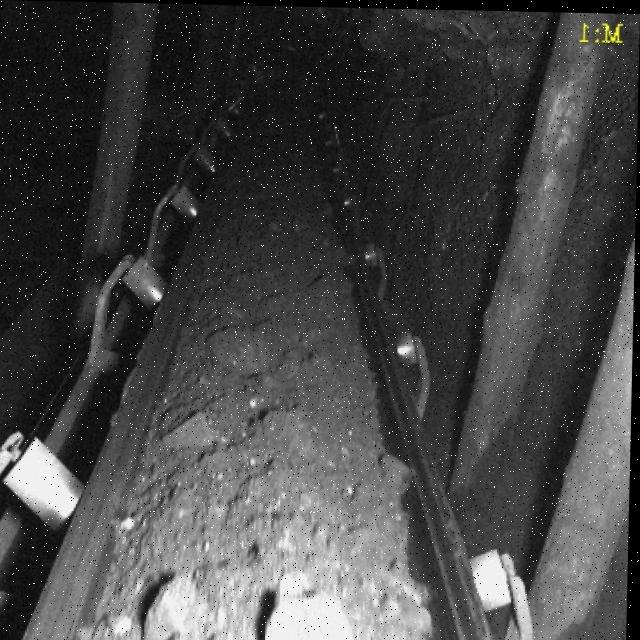large_sized_coal: (267, 578, 377, 640), (144, 573, 211, 640), (210, 322, 272, 374), (161, 410, 216, 446)
